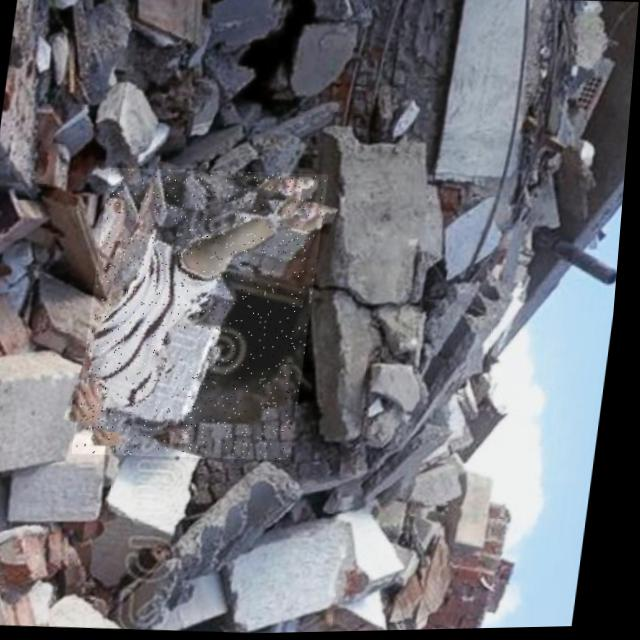Person in Rubble: (78, 165, 332, 466)
